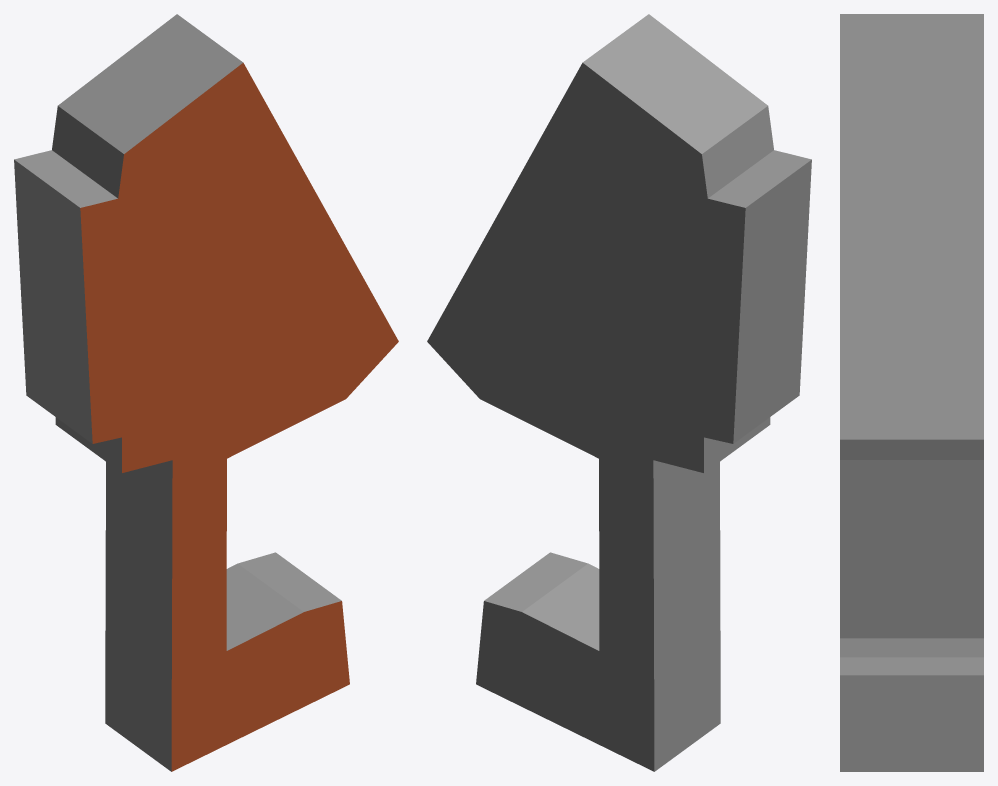
The model's file is construction_3462_assumed_A_Casa_h6m.obj.
3 renders of one model, left to right at view 1: azimuth 30°, elevation 25°; view 2: azimuth 150°, elevation 25°; view 3: azimuth 270°, elevation 25°, orthographic. The views are drawn at different scales.
Visible parts, largest first — view 1: construction_3462_assumed_A_Casa; view 2: construction_3462_assumed_A_Casa; view 3: construction_3462_assumed_A_Casa.
Boxes of the visible parts, x1=… form: construction_3462_assumed_A_Casa: x1=14, y1=14, x2=398, y2=771; construction_3462_assumed_A_Casa: x1=427, y1=14, x2=811, y2=771; construction_3462_assumed_A_Casa: x1=840, y1=14, x2=983, y2=771.
Size of the model in its own units: 16.64 by 34.53 by 6.
